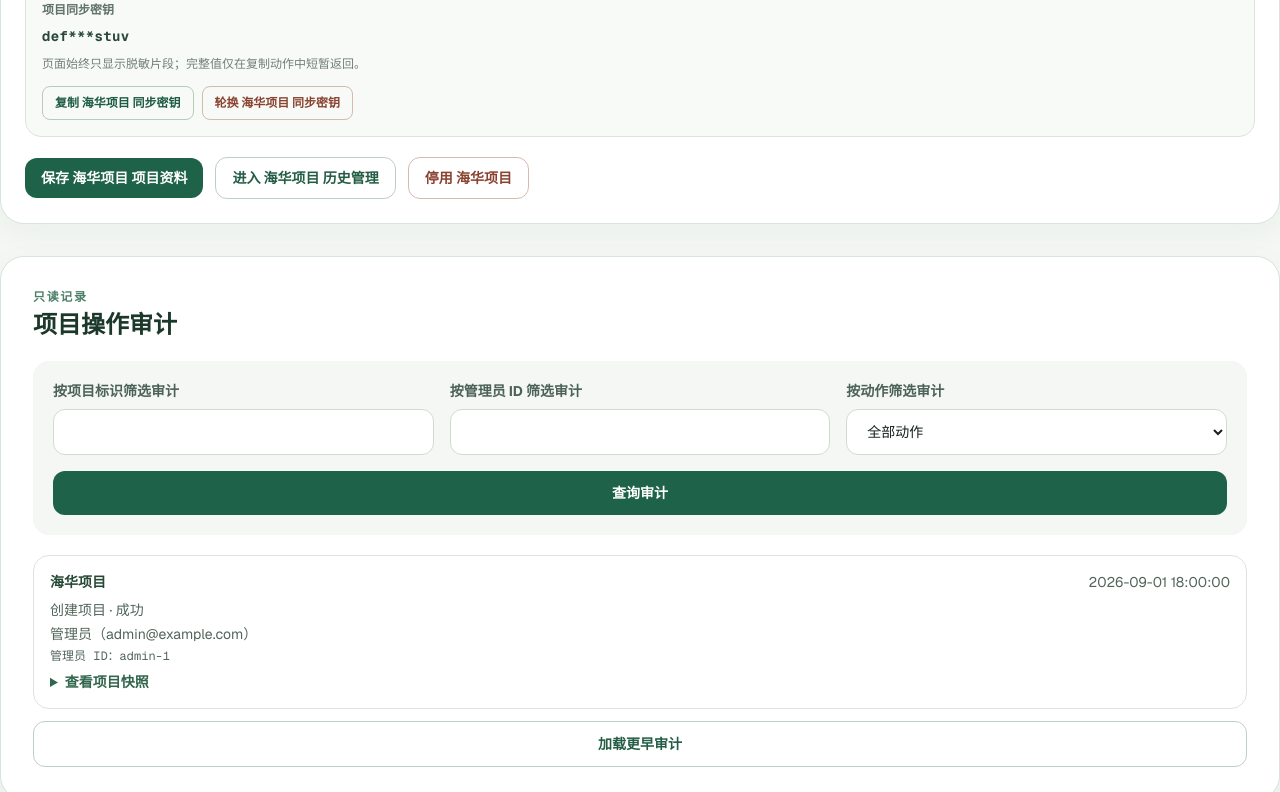
Test: 全局项目维护 UI › 可以用游标继续加载更早的审计记录
This screenshot has width=1280, height=792.
(page scrolled)
Step 1. Click the button "加载更早审计" → click(640, 744), box [33,721,1247,767]
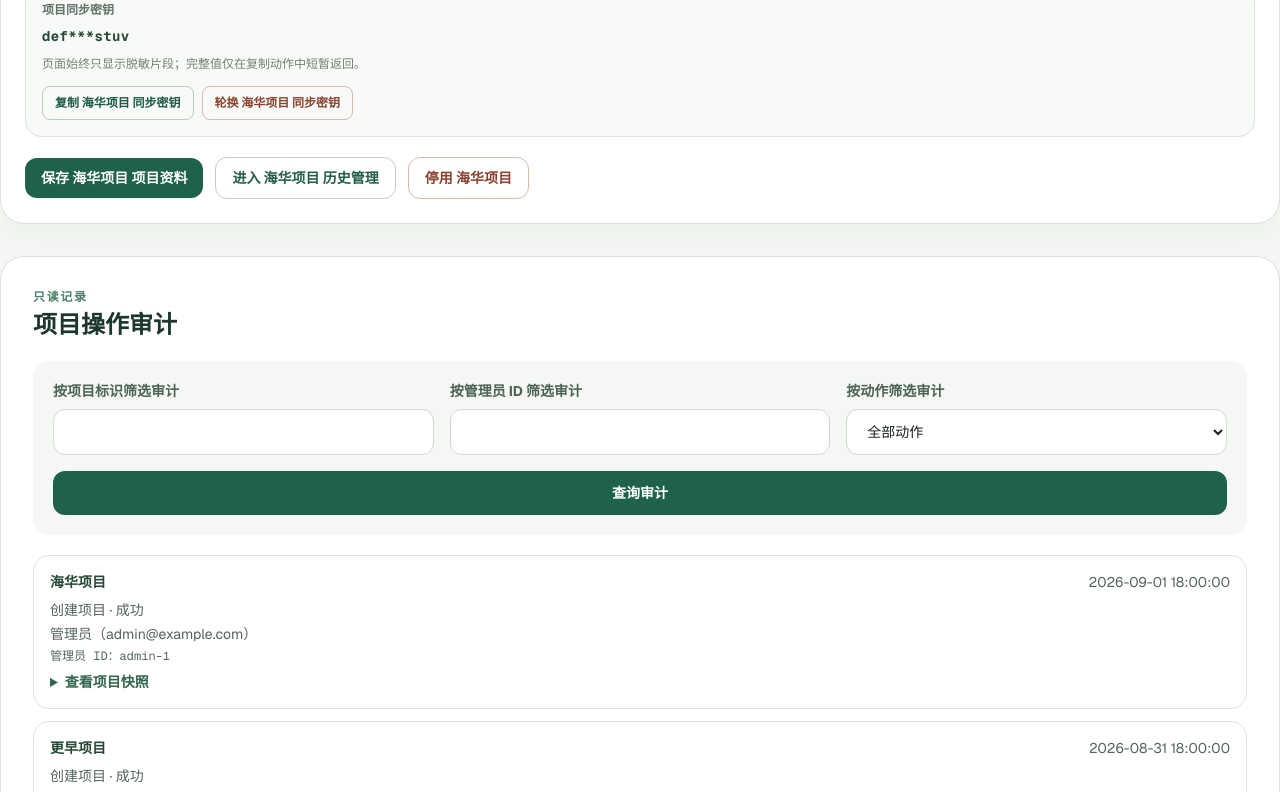
Now the text "更早项目" is shown, box [50,738,106,758]
Now the button "加载更早审计" is gone
